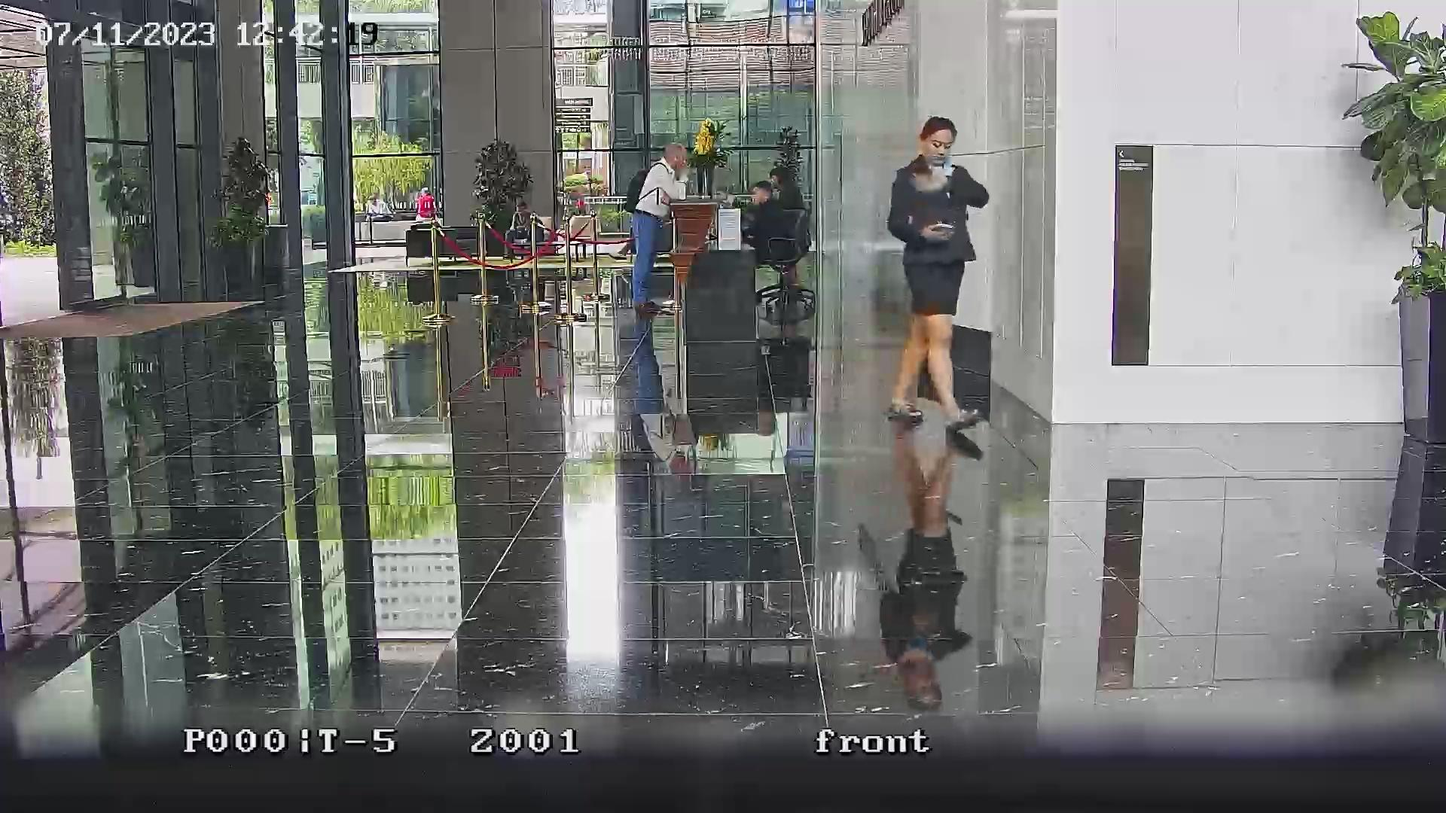person: (884, 115, 990, 428), (628, 142, 691, 317), (743, 179, 807, 266), (505, 200, 544, 262), (770, 161, 804, 212), (367, 192, 392, 221), (417, 188, 437, 221)
